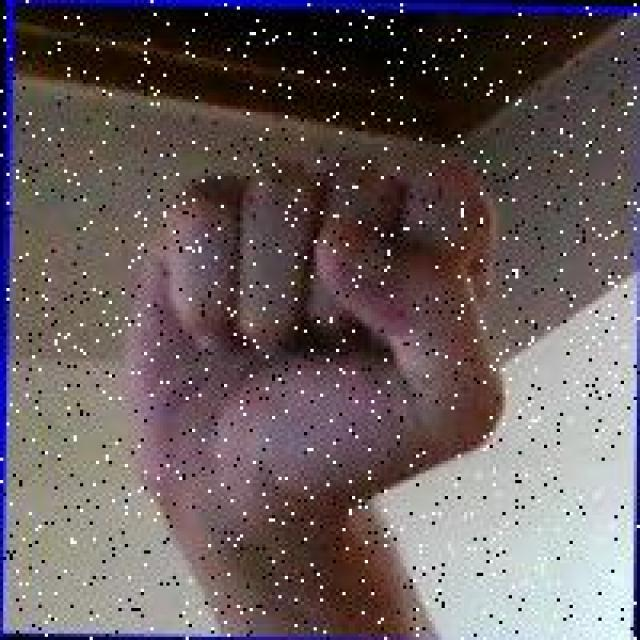S: (110, 142, 517, 524)
